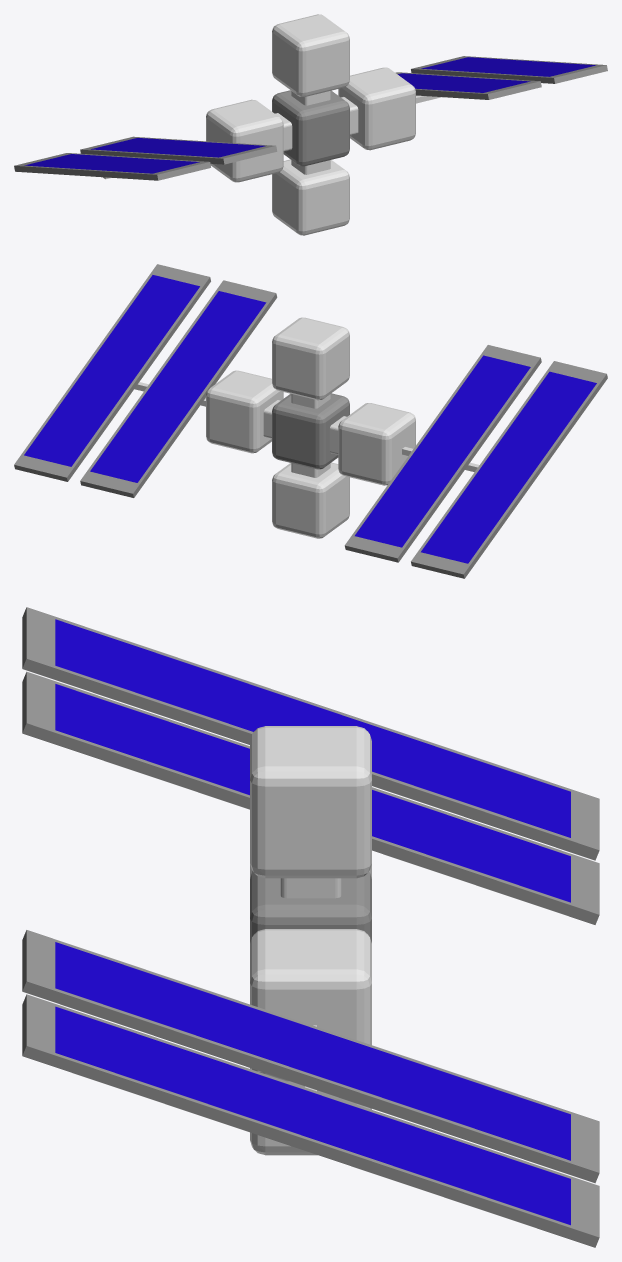
File: spacestation.dae
3 renders of one model, top to bottom at view 1: azimuth 30°, elevation 25°; view 2: azimuth 150°, elevation 25°; view 3: azimuth 270°, elevation 25°, orthographic. The views are drawn at different scales.
Parts seen in each view (by area): view 1: Cube_003, Cube_004, Cube_001, Cube_002, Cube, Cube_009, Cube_010, Cube_008, Cube_007, Cube_006, Cube_005; view 2: Cube_009, Cube_008, Cube_010, Cube_007, Cube_003, Cube_002, Cube_004, Cube_001, Cube, Cube_006, Cube_005; view 3: Cube_008, Cube_007, Cube_009, Cube_010, Cube_003, Cube_001, Cube, Cube_006, Cube_004.
Boxes of the visible parts, x1,y1,x2,y2 form: Cube_003: [272, 14, 349, 96]; Cube_004: [272, 159, 349, 235]; Cube_001: [338, 67, 415, 150]; Cube_002: [206, 99, 283, 182]; Cube: [272, 90, 349, 166]; Cube_009: [14, 153, 210, 180]; Cube_010: [80, 136, 277, 164]; Cube_008: [411, 56, 607, 83]; Cube_007: [395, 72, 541, 99]; Cube_006: [291, 91, 330, 174]; Cube_005: [275, 97, 358, 151]; Cube_009: [411, 361, 607, 578]; Cube_008: [14, 264, 210, 481]; Cube_010: [344, 345, 541, 562]; Cube_007: [80, 280, 277, 497]; Cube_003: [272, 317, 349, 400]; Cube_002: [338, 403, 415, 485]; Cube_004: [272, 462, 349, 538]; Cube_001: [206, 370, 283, 453]; Cube: [272, 393, 349, 469]; Cube_006: [291, 394, 330, 477]; Cube_005: [263, 400, 346, 454]; Cube_008: [22, 994, 599, 1247]; Cube_007: [22, 930, 599, 1183]; Cube_009: [22, 607, 599, 860]; Cube_010: [22, 671, 599, 924]; Cube_003: [250, 726, 371, 878]; Cube_001: [250, 929, 371, 1081]; Cube: [250, 872, 371, 942]; Cube_006: [280, 878, 341, 898]; Cube_004: [250, 1068, 371, 1155].
Bounding box in the file's own units: 17 × 9.45 × 7.
